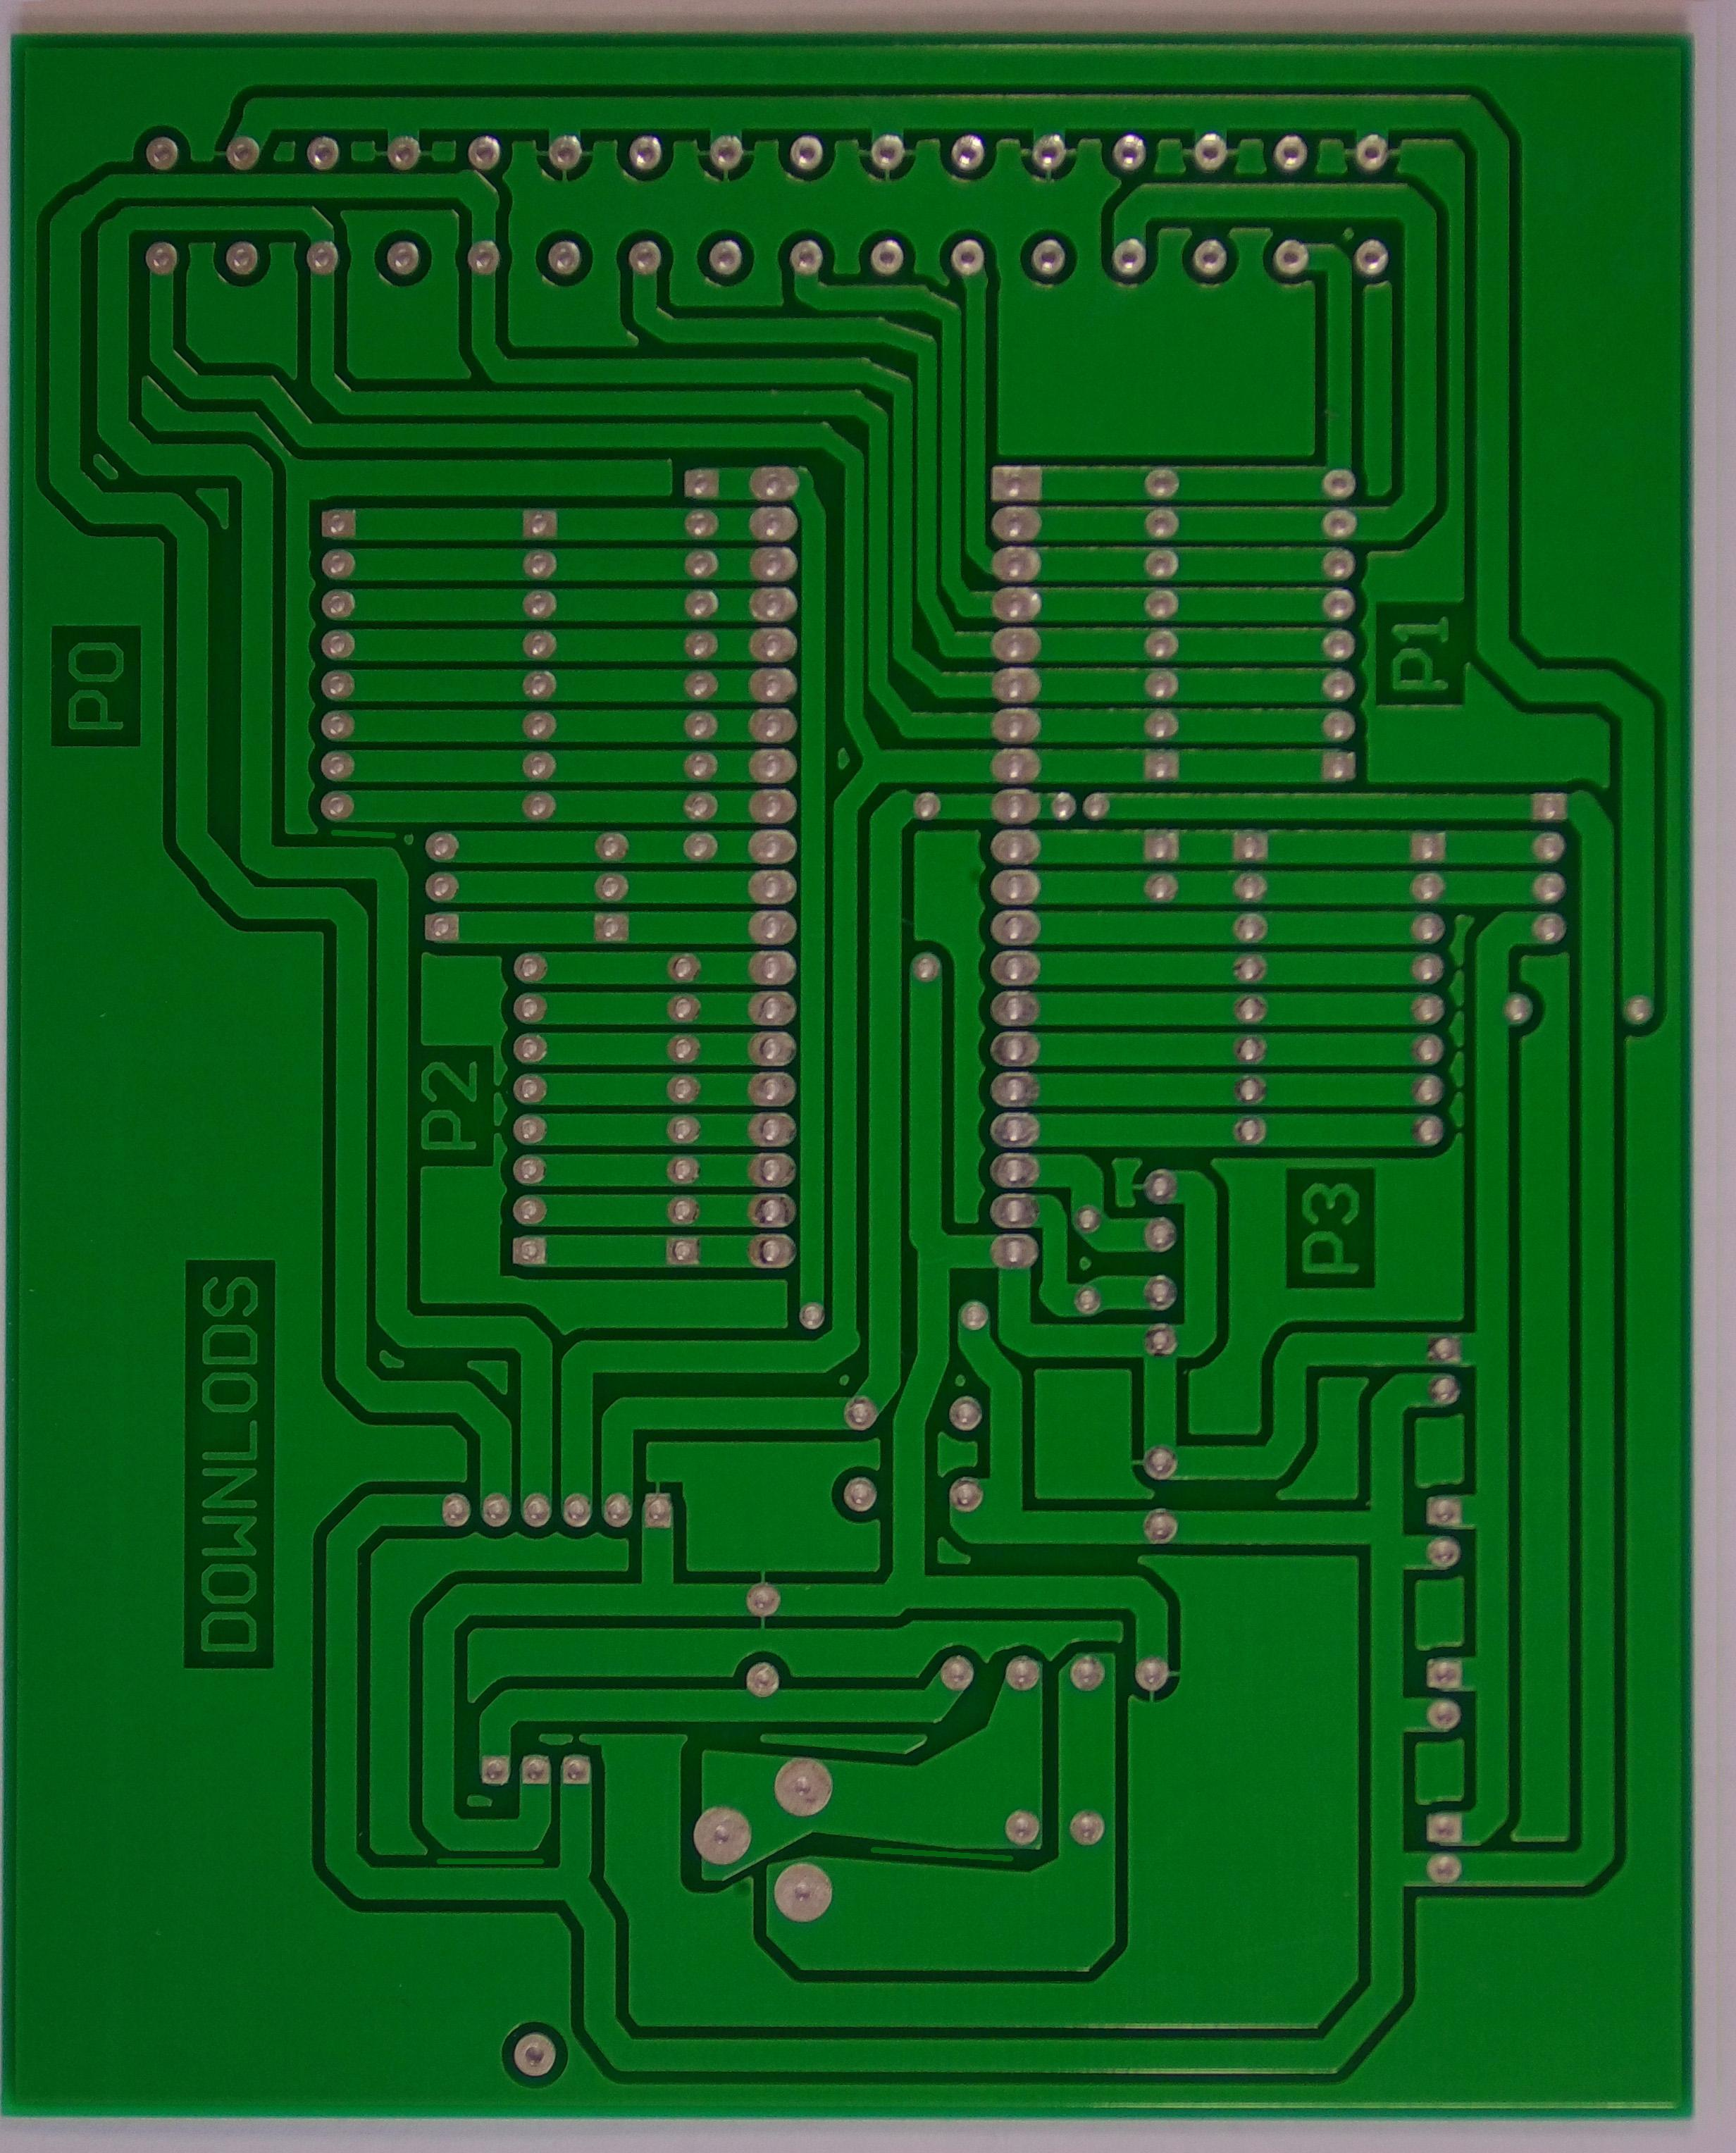spurious_copper: (847, 1825, 1042, 1898), (425, 1831, 556, 1898), (319, 804, 416, 862)
